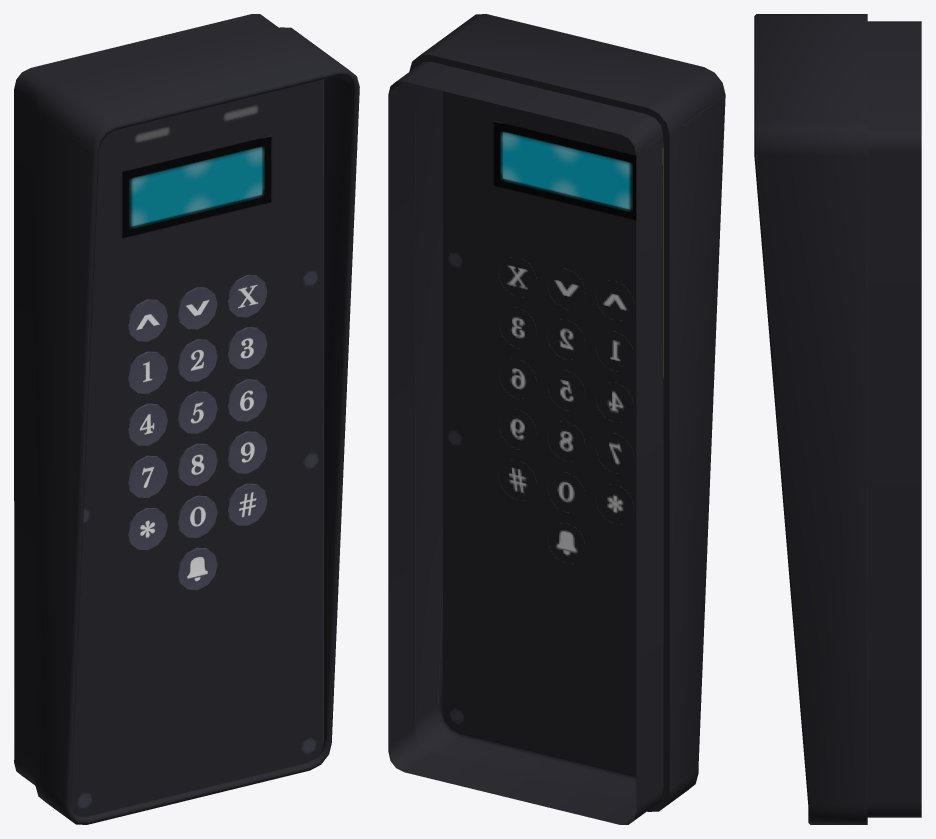
Rendered from DoorIntercomPack04_01.glb.
3 views of the same model, side by side, from view 1: azimuth 30°, elevation 25°; view 2: azimuth 150°, elevation 25°; view 3: azimuth 270°, elevation 25° (orthographic). The views are drawn at different scales.
Parts seen in each view (by area): view 1: Plane_022; view 2: Plane_022; view 3: Plane_022.
Boxes of the visible parts, x1,y1,x2,y2 form: Plane_022: (14,14,359,824); Plane_022: (388,14,725,824); Plane_022: (754,14,921,824).
Bounding box in the file's own units: 0.1294 × 0.3341 × 0.0724.
1 material, 1 textured.
